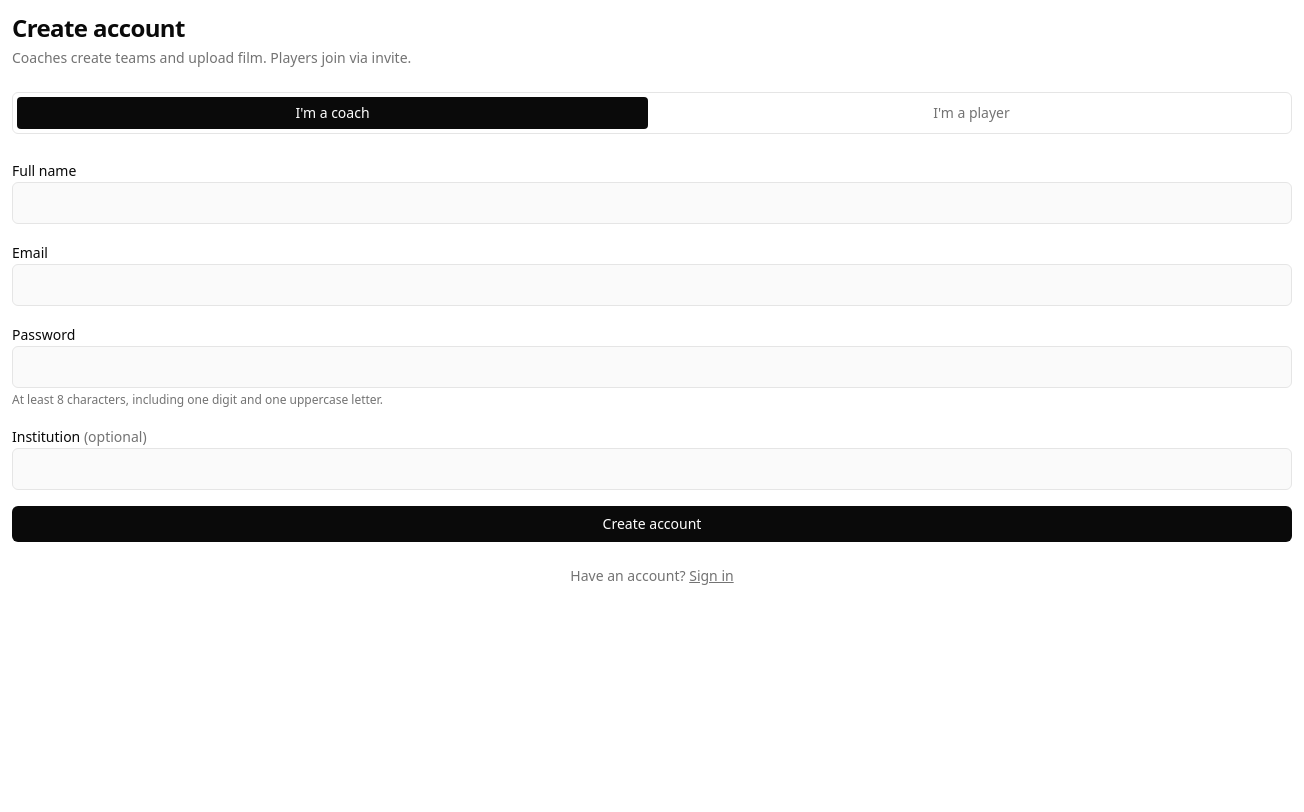
Test: registration channel UI › keeps role selection as native radios
Click the radio button labelled "I'm a player" at (972, 112), box [933,103,1010,122]
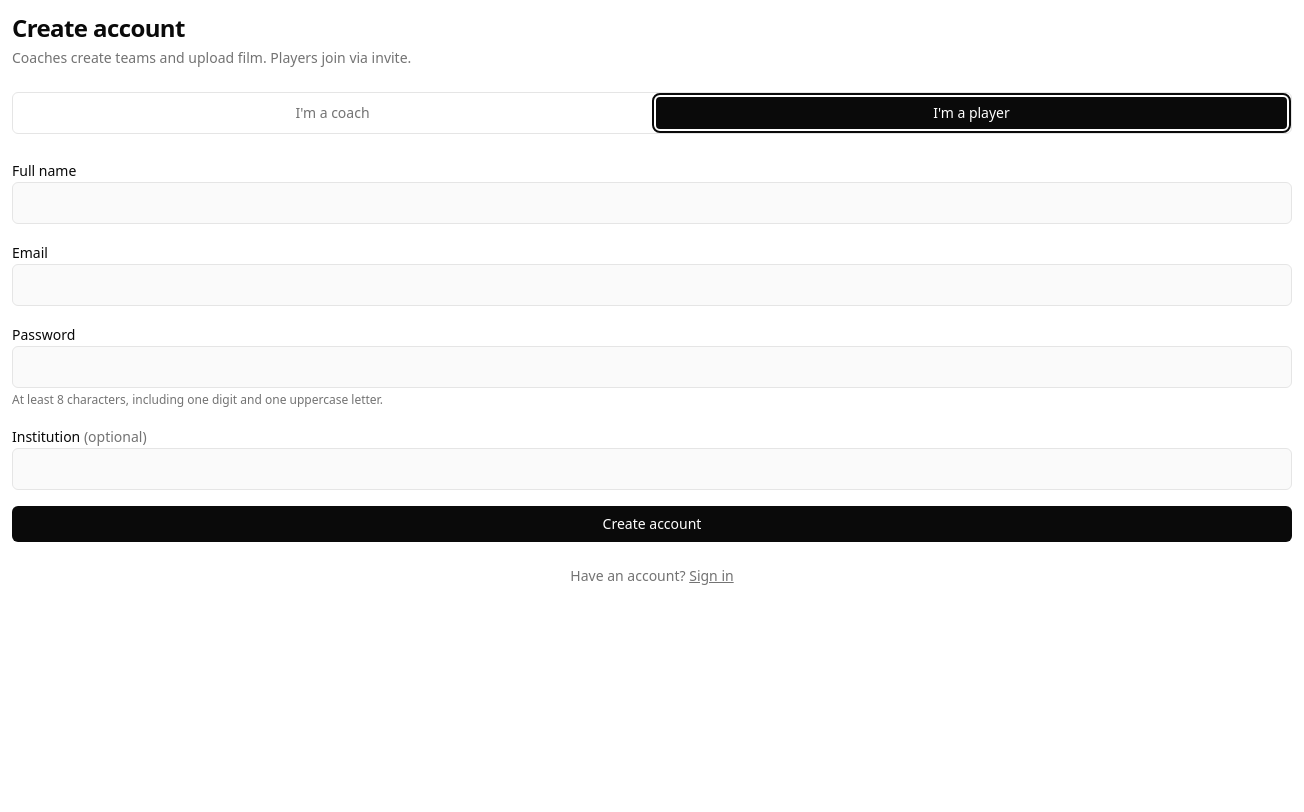
Expected: the radio button labelled "I'm a player" is checked, [656,97,1287,129]
Expected: the radio button labelled "I'm a coach" is not checked, [295,103,370,122]
